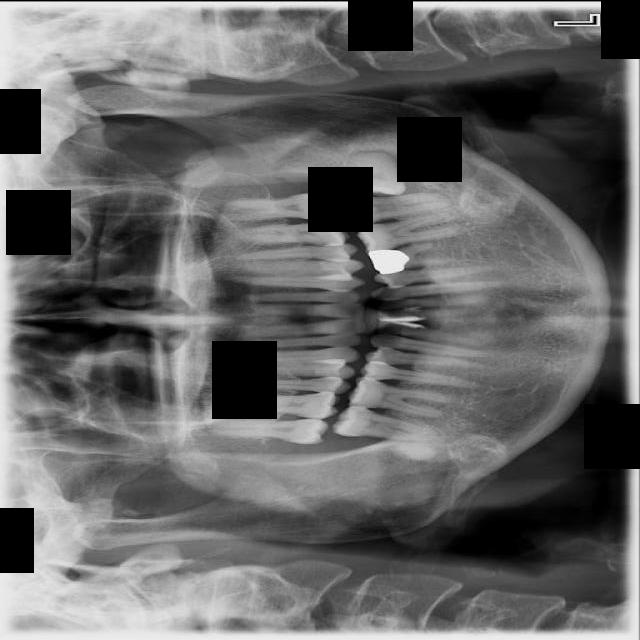73: (570, 42, 584, 51)
BioHorizons Implant: (225, 192, 334, 221)
Biomet 3i Implant: (344, 148, 411, 198)
Blue Sky Bio Implant: (340, 191, 454, 226)
Caries: (210, 417, 330, 446)
Implant: (331, 403, 442, 444)
